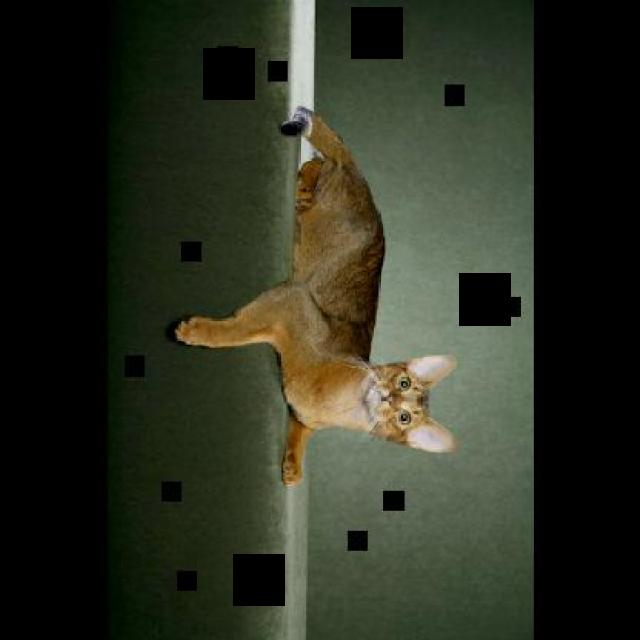unauthorized: (172, 106, 458, 488)
